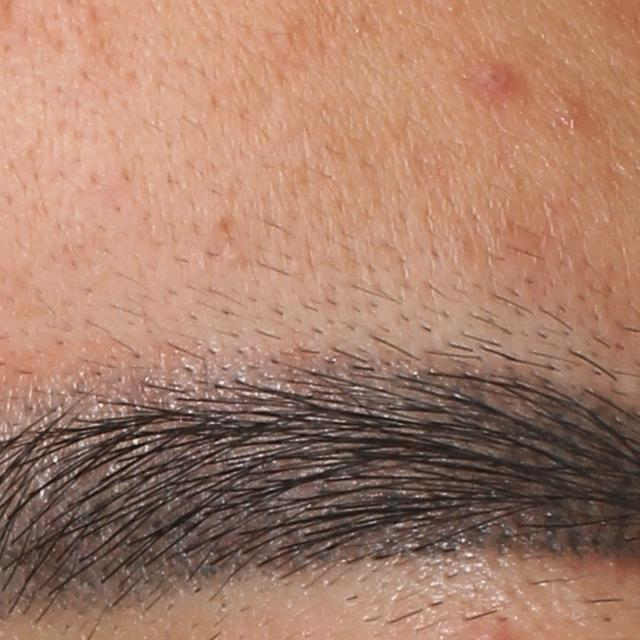papule: (466, 66, 519, 100)
